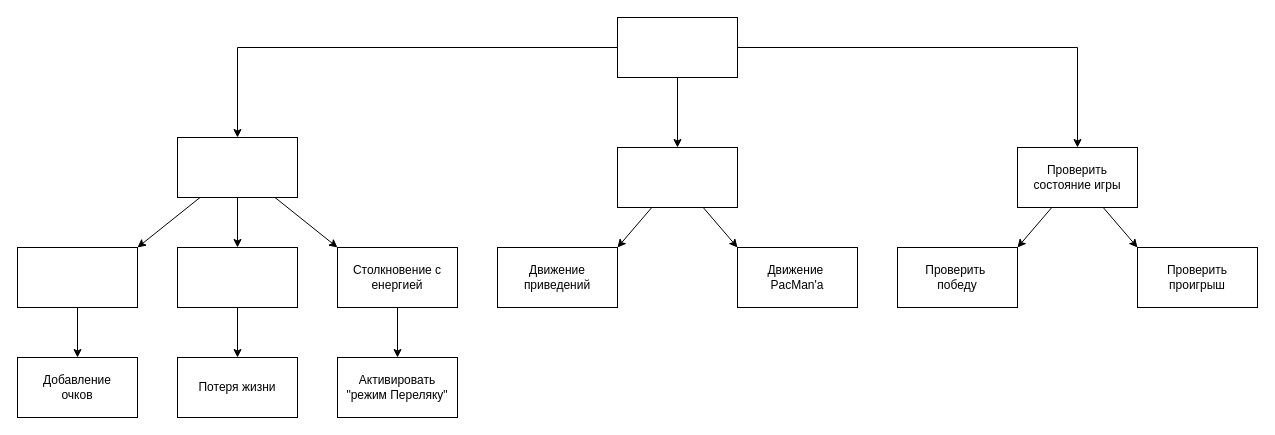
Some shapes in this 1275 by 435 pixel diagram are drawn without their labels. The centre of each missing label's shape, as x and y in pixels:
"Основные позиции" belongs at point 677,177.
"Проверка столкновений" belongs at point 237,167.
"Система" belongs at point 677,47.
"Столкновение с привидением" belongs at point 237,277.
"Столкновение с точкой" belongs at point 77,277.
